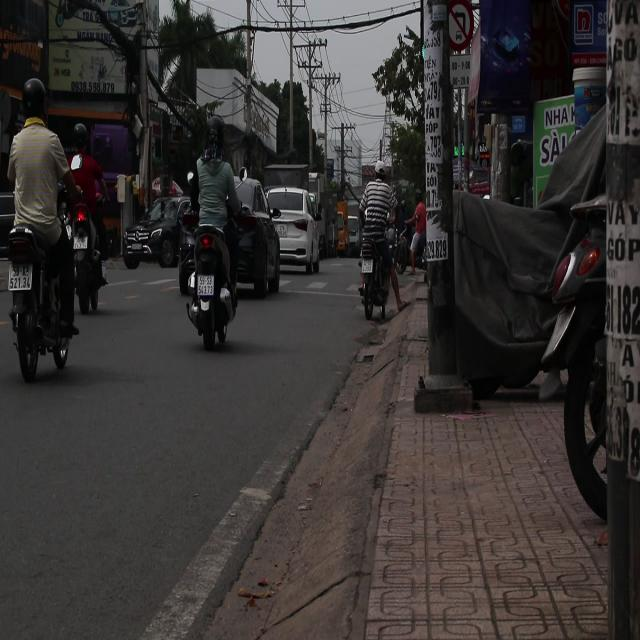car: (122, 196, 192, 268)
motorbike: (7, 226, 77, 382), (178, 206, 240, 351), (62, 180, 110, 317), (353, 221, 398, 327)
truck: (264, 186, 322, 276)
